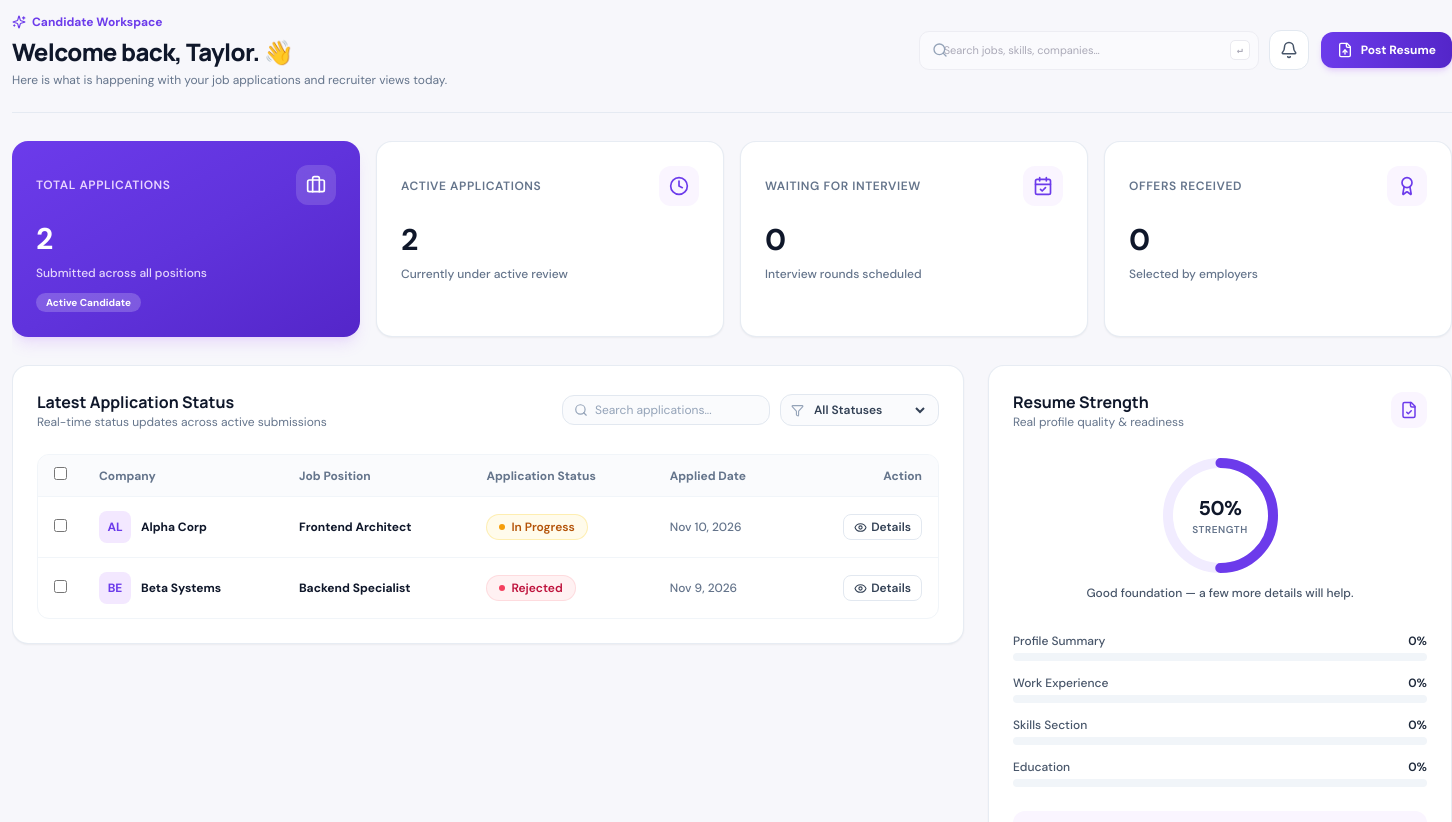
Test case: DashboardPage › filters application status table by search keyword and status selection
Expected: the text "Frontend Architect" is shown, x1=299 y1=519 x2=412 y2=535
Expected: the text "Backend Specialist" is shown, x1=299 y1=580 x2=410 y2=596
Filter by search query
Type "Frontend" into the field with placeholder "Search applications..." at (666, 410), box x1=562 y1=395 x2=770 y2=425
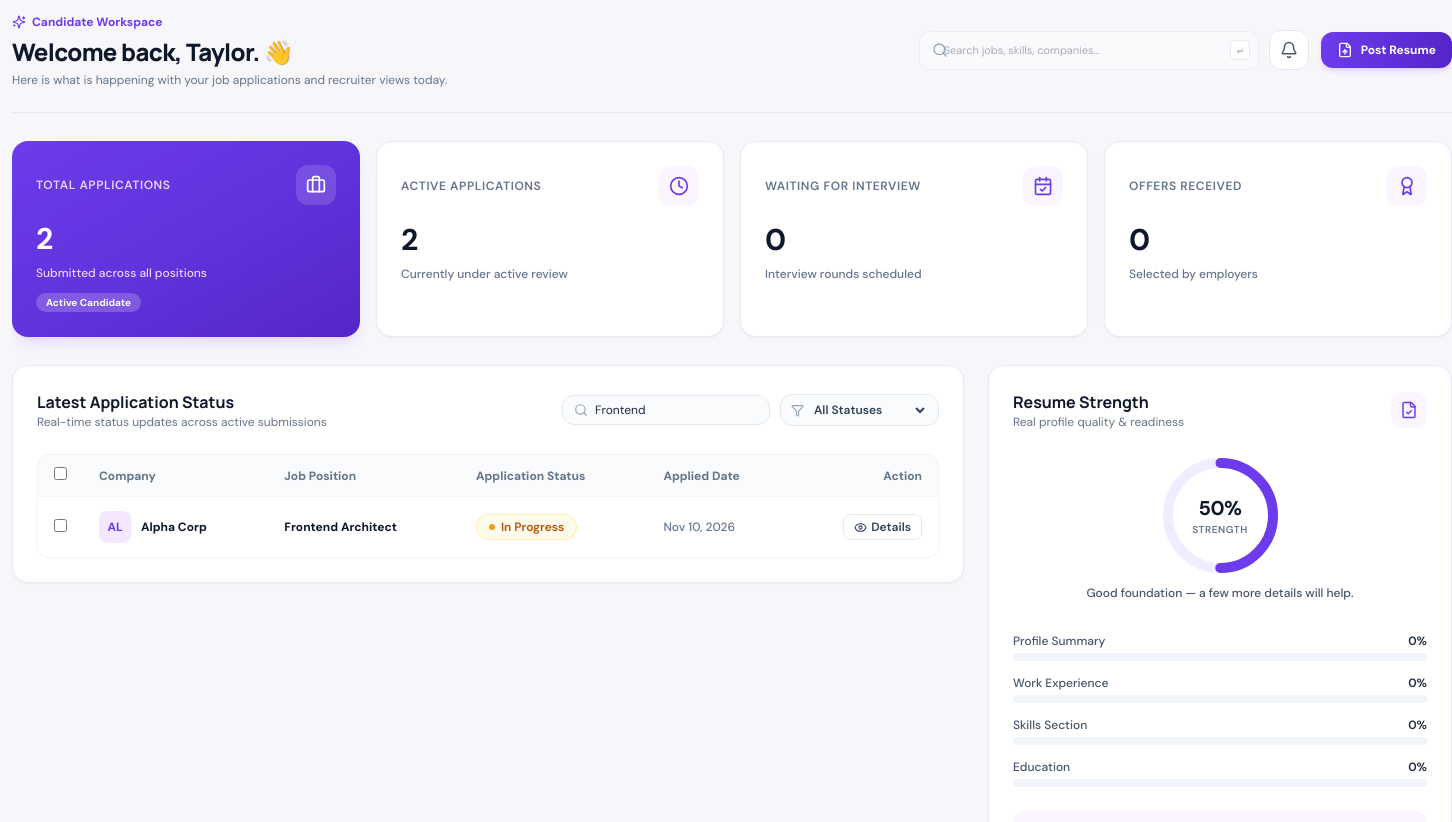
Expected: the text "Frontend Architect" is shown, x1=284 y1=519 x2=397 y2=535
Expected: the text "Backend Specialist" is gone
